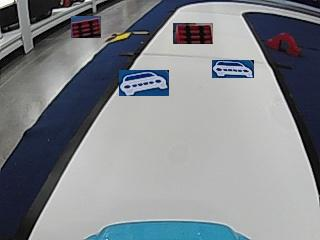bridge: (267, 32, 300, 56)
